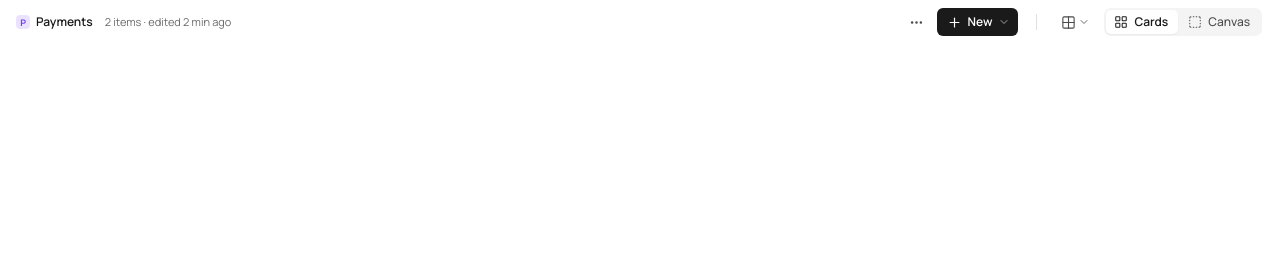
Test case: header ⋯·New ▾ (#231 D8, T21) › project ⋯ — New diagram · New folder · Rename · Delete (no Move to…)
This screenshot has width=1274, height=261.
Step 1. Click the button named "More for Payments" → (916,22), box [902, 8, 930, 36]
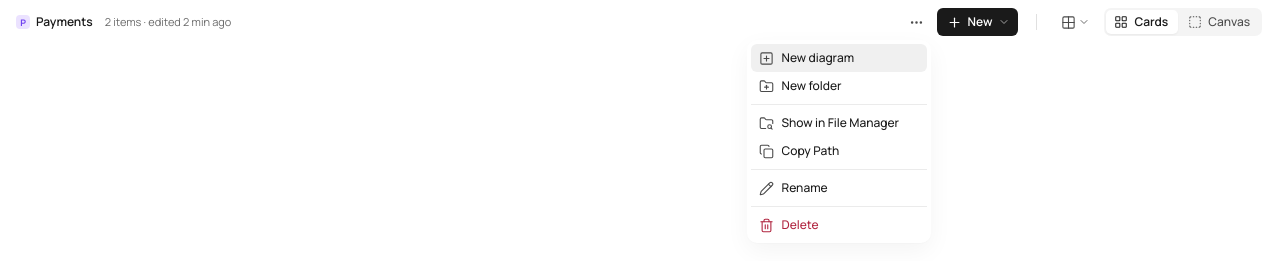
Now the menu named "More for Payments" is shown, box [746, 40, 930, 243]
Now the menu items read "New diagram", "New folder", "Show in File Manager", "Copy Path", "Rename", "Delete", in this order, box [750, 44, 926, 72]; [750, 72, 926, 100]; [750, 109, 926, 137]; [750, 137, 926, 165]; [750, 174, 926, 202]; [750, 211, 926, 239]
